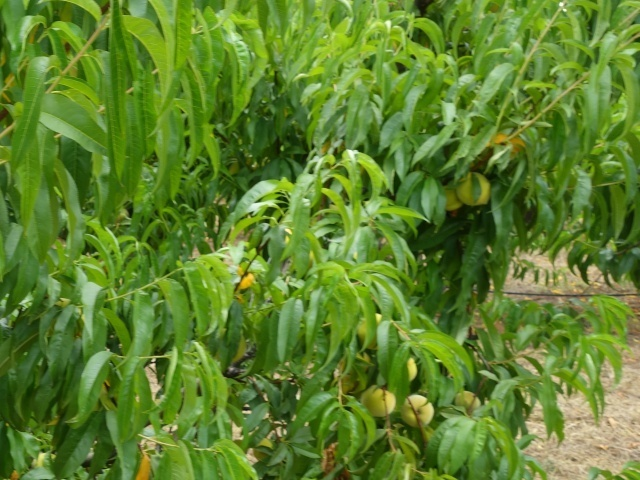peach: (358, 379, 400, 421), (453, 165, 492, 209), (400, 392, 439, 432), (436, 179, 469, 211), (451, 387, 482, 417)
